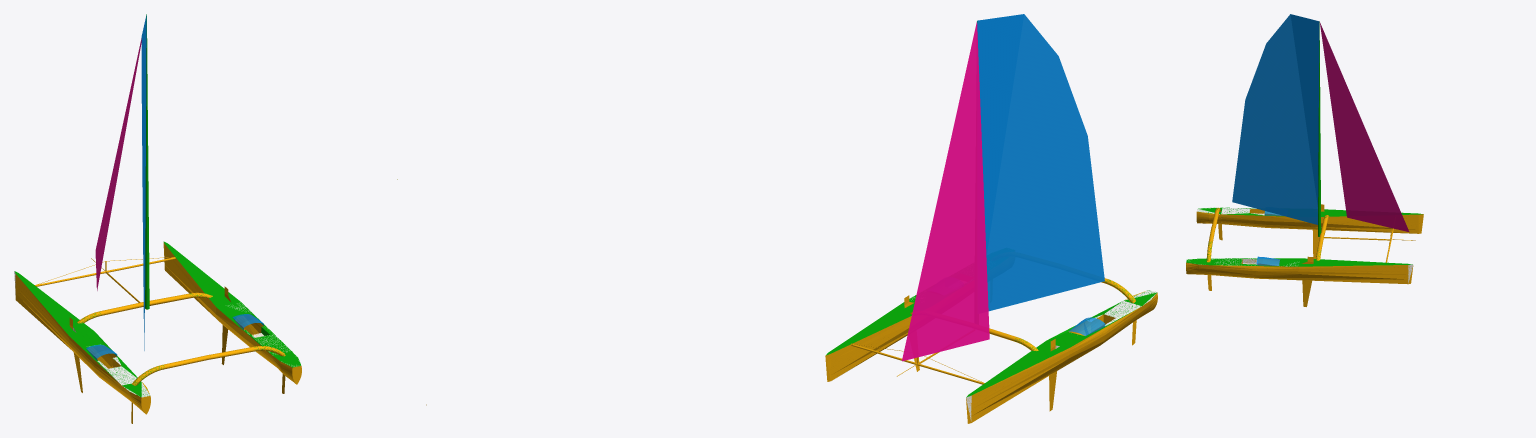
File: foc_tribord_catamaran.dae
3 renders of one model, left to right at view 1: azimuth 30°, elevation 25°; view 2: azimuth 150°, elevation 25°; view 3: azimuth 270°, elevation 25°, orthographic. The views are drawn at different scales.
Visible parts, largest first — view 1: SketchUp (×10); view 2: SketchUp (×7); view 3: SketchUp (×7).
Part boxes in pixels (box(x1,y1,x2,y2)): SketchUp (×10): box(14, 14, 301, 414); SketchUp (×7): box(825, 14, 1157, 423); SketchUp (×7): box(1186, 14, 1423, 284).
Size of the model in its own units: 188600 by 156303 by 135617.
Materials: 14 (5 with a texture image).
